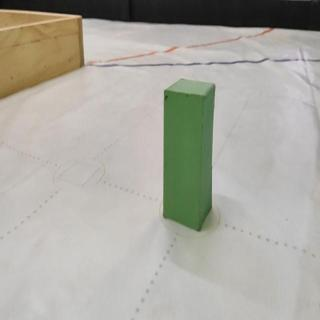greenbox: (163, 77, 217, 232)
